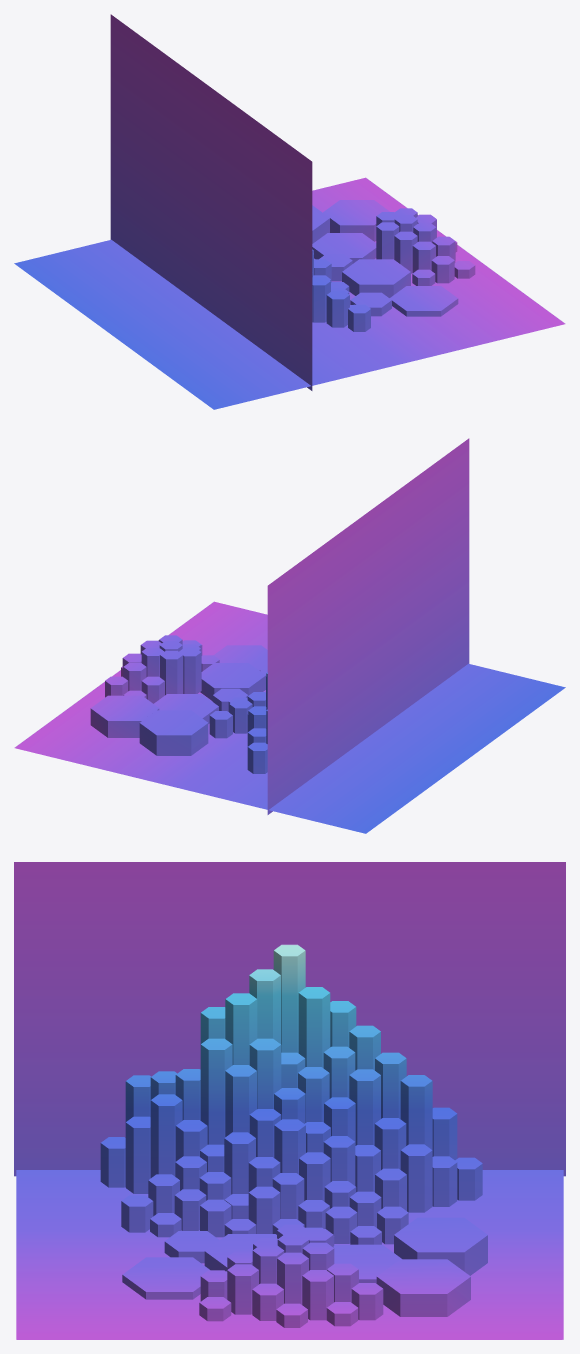
Rendered from lev_3.fbx.
3 renders of one model, top to bottom at view 1: azimuth 30°, elevation 25°; view 2: azimuth 150°, elevation 25°; view 3: azimuth 270°, elevation 25°, orthographic. The views are drawn at different scales.
Visible parts, largest first — view 1: lev_gra_4; view 2: lev_gra_4; view 3: lev_gra_4.
Boxes of the visible parts, <box> form: lev_gra_4: <box>14,14,565,409</box>; lev_gra_4: <box>14,438,565,833</box>; lev_gra_4: <box>14,862,565,1339</box>.
Bounding box in the file's own units: 3505 × 2194 × 3479.
